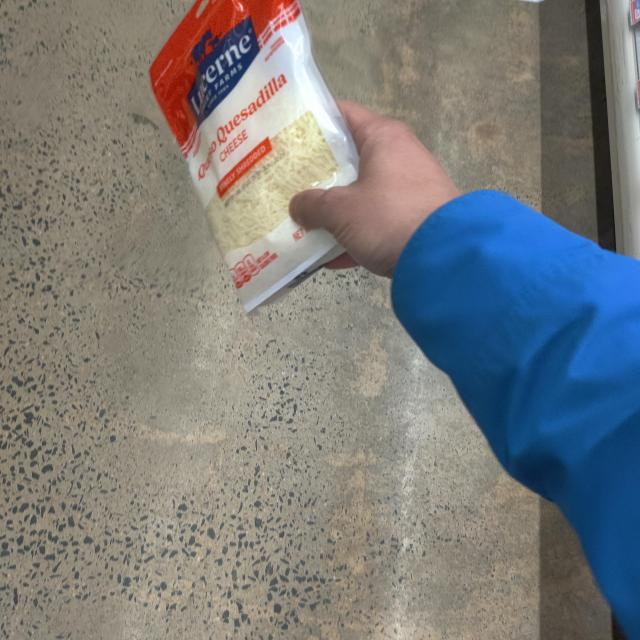Cheese: (152, 0, 400, 323)
